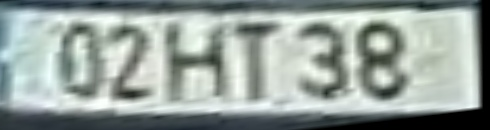0: (49, 18, 109, 103)
2: (101, 20, 161, 107)
3: (290, 19, 354, 106)
8: (350, 16, 417, 107)
H: (163, 21, 232, 106)
T: (233, 17, 290, 106)
